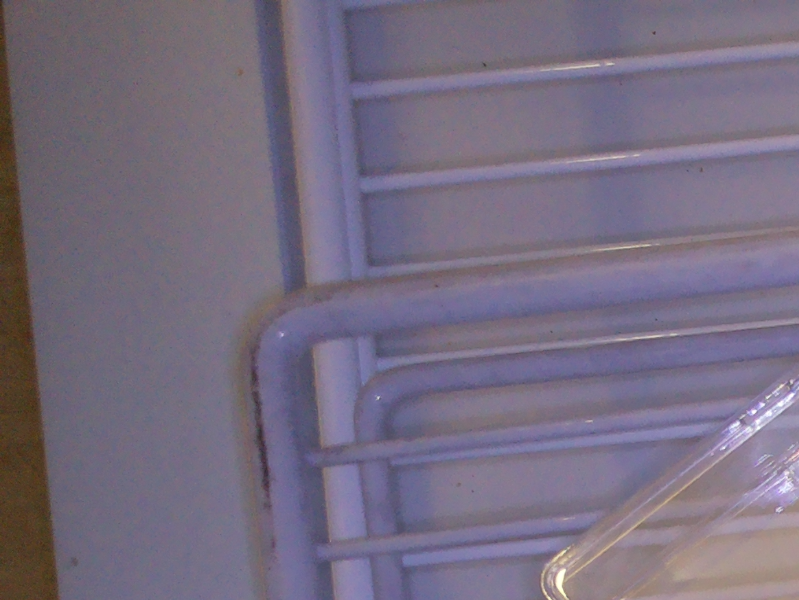plate: (541, 362, 799, 600)
